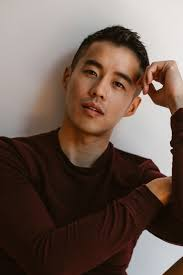bare: (65, 84, 128, 135)
